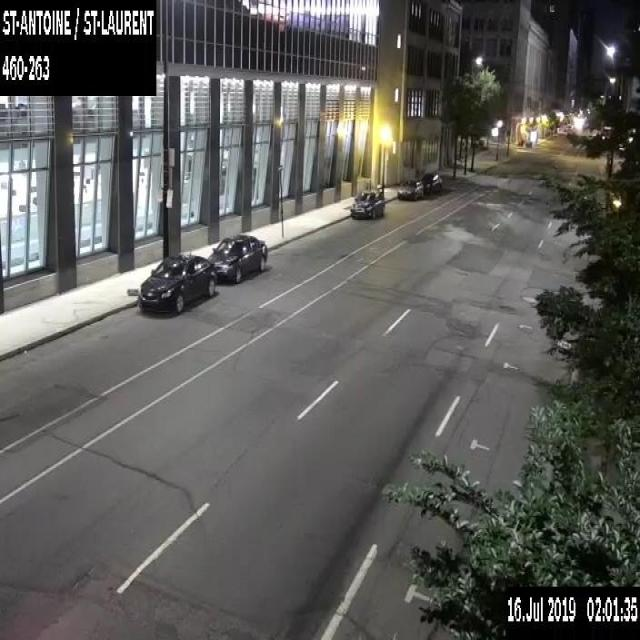vehicle: (136, 252, 217, 314), (206, 233, 267, 283), (350, 189, 384, 218), (397, 178, 424, 200), (419, 170, 442, 193)
